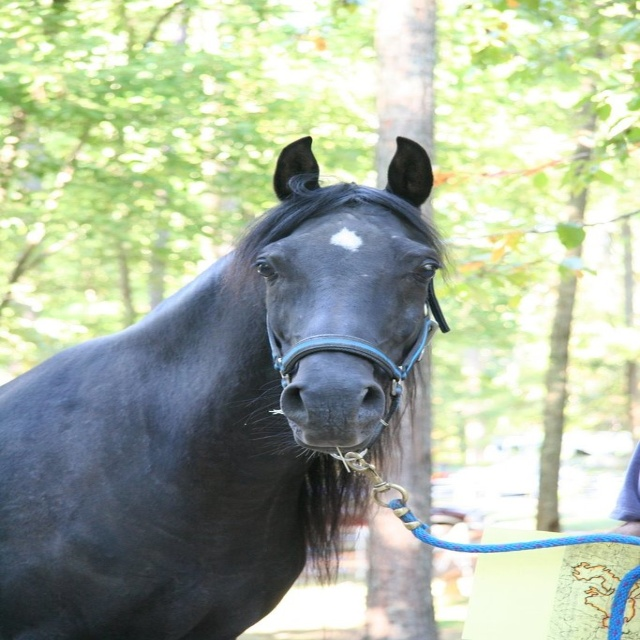Horse: (0, 137, 449, 639)
